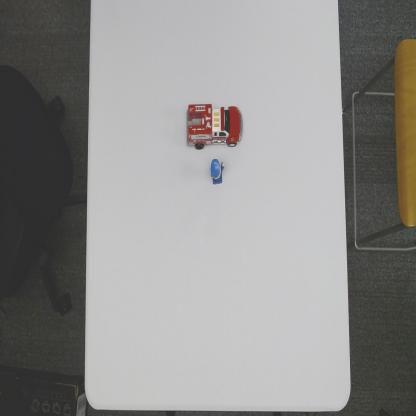Firetruck: (185, 103, 243, 151)
